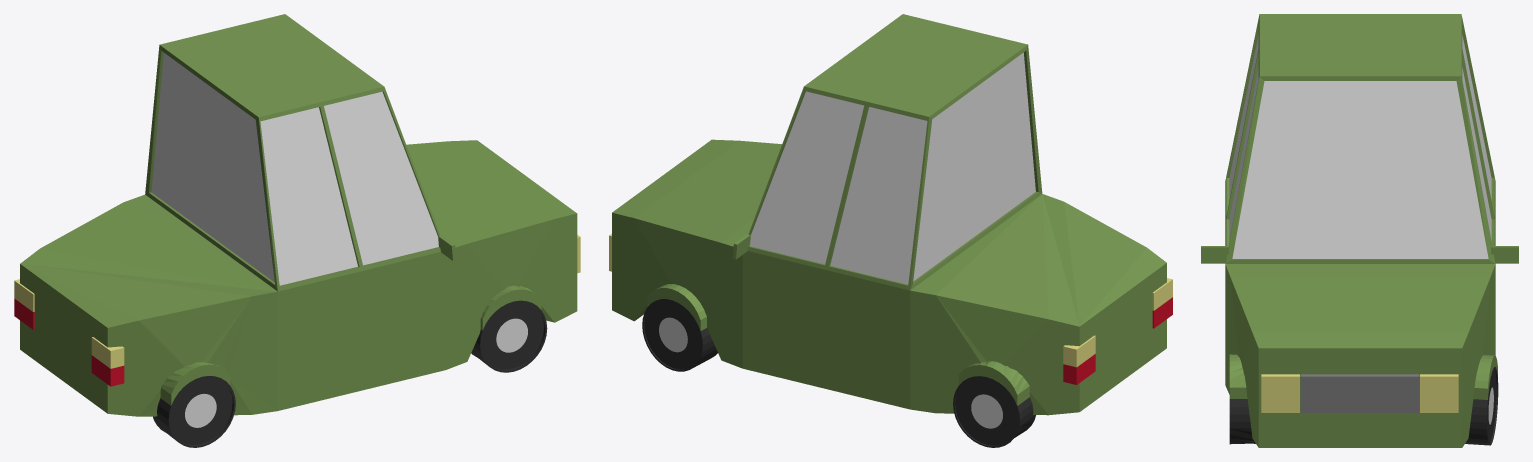
Rendered from lowPolyCar1.dae.
3 views of the same model, side by side, from view 1: azimuth 30°, elevation 25°; view 2: azimuth 150°, elevation 25°; view 3: azimuth 270°, elevation 25° (orthographic). The views are drawn at different scales.
Parts seen in each view (by area): view 1: Cylinder_002; view 2: Cylinder_002; view 3: Cylinder_002.
Boxes of the visible parts, left/top/right/bottom form: Cylinder_002: left=14, top=14, right=580, bottom=447; Cylinder_002: left=609, top=14, right=1172, bottom=447; Cylinder_002: left=1201, top=14, right=1518, bottom=447.
Bounding box in the file's own units: 4.45 × 2.56 × 2.74.
